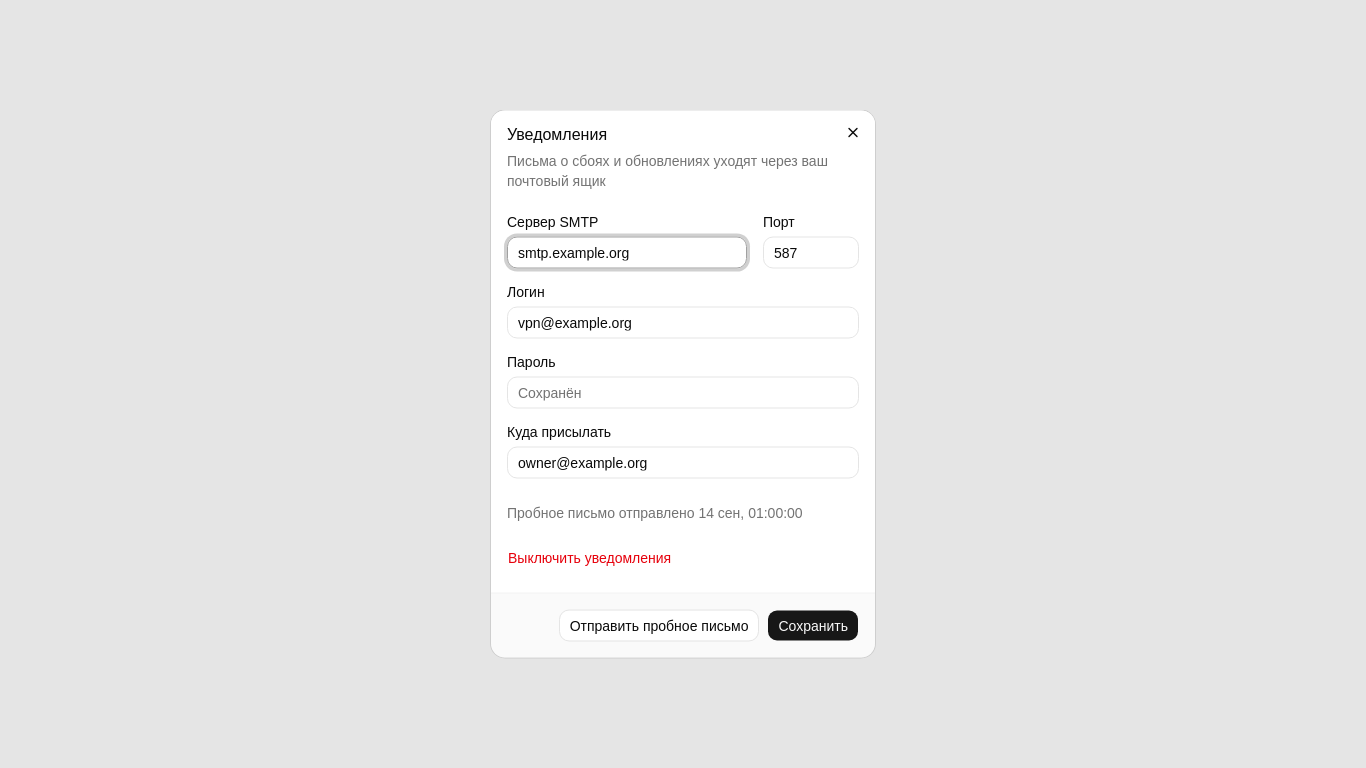
уведомления › выключает уведомления после подтверждения
Click the button "Выключить уведомления": [590, 558] box [507, 546, 672, 568]
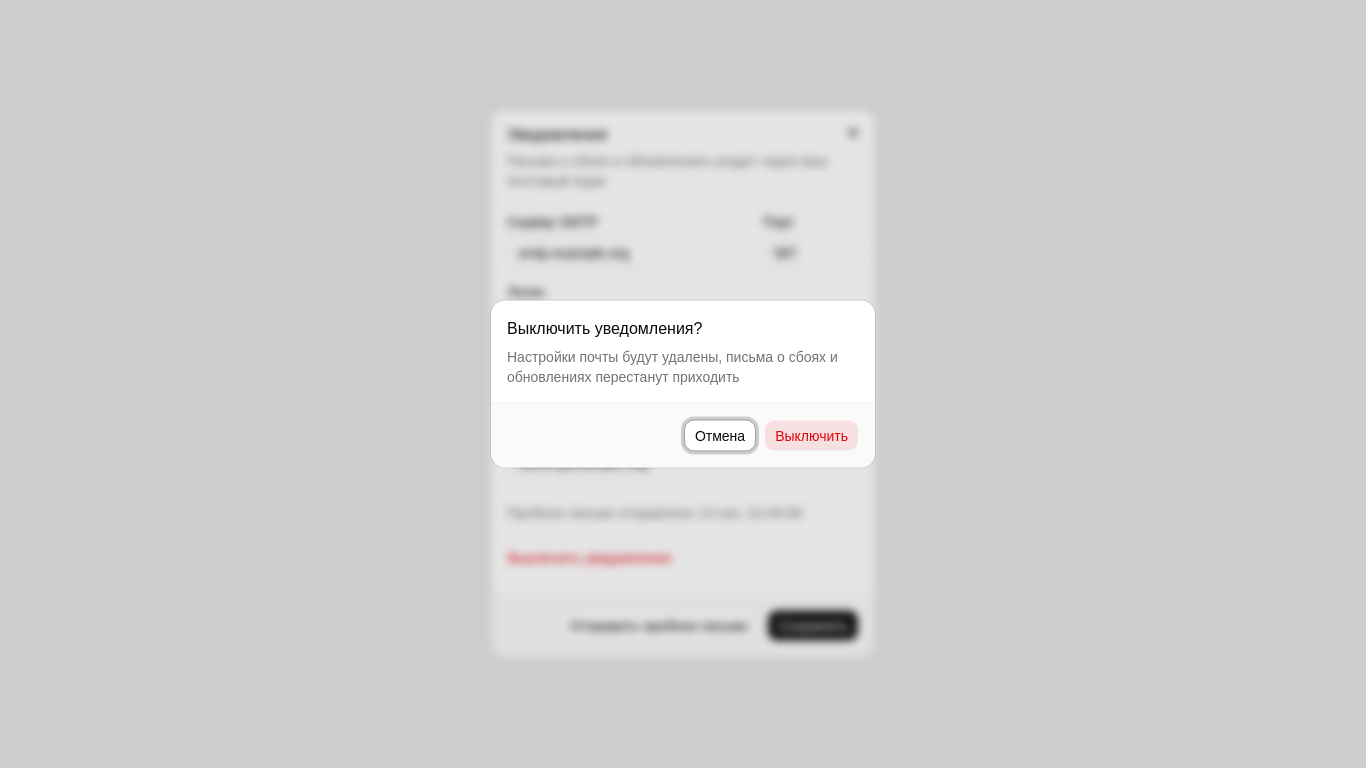
Click the button "Выключить": [812, 436] box [764, 420, 859, 452]
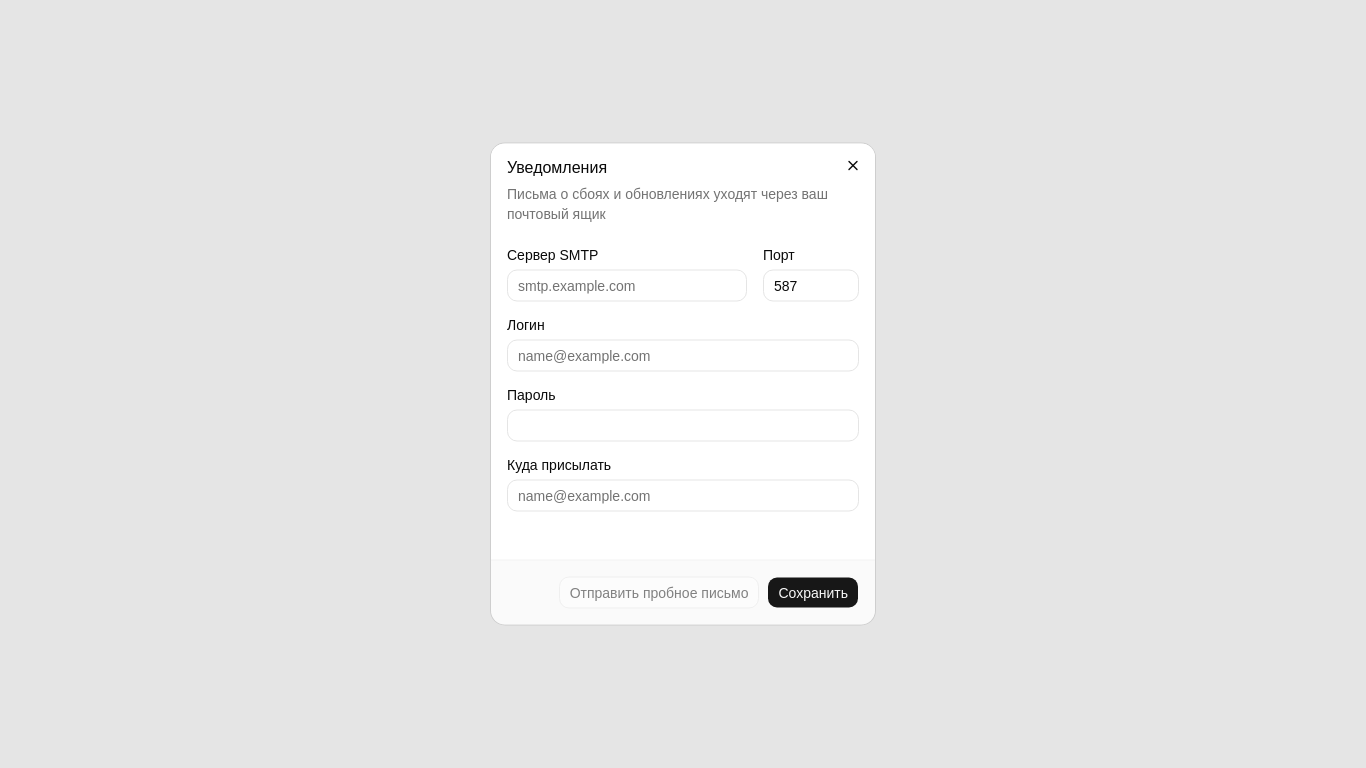
Expected: the field labelled "Сервер SMTP" is empty, [507, 270, 747, 302]
Expected: the button "Выключить уведомления" is gone
